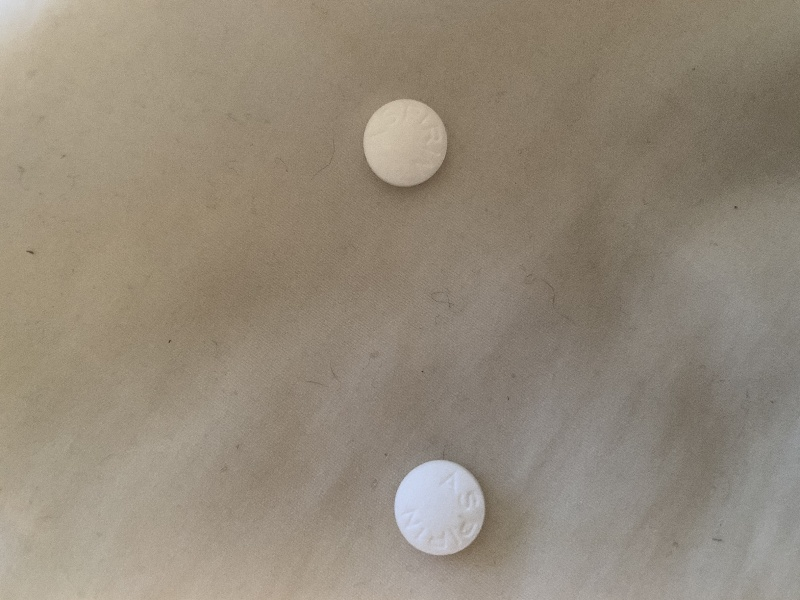Aspirin: (391, 455, 493, 564), (359, 93, 455, 195)
